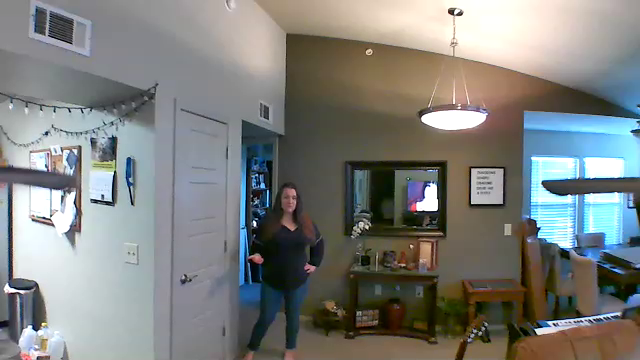land: (246, 248, 265, 271)
